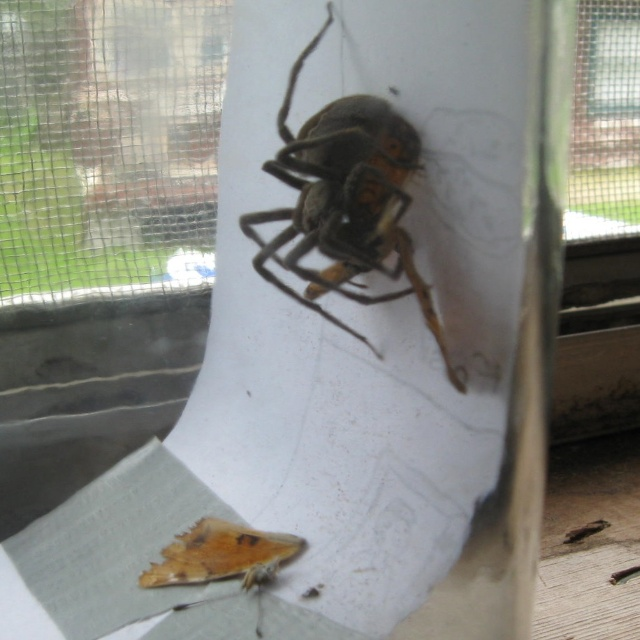Moths and butterflies: (140, 514, 311, 639)
